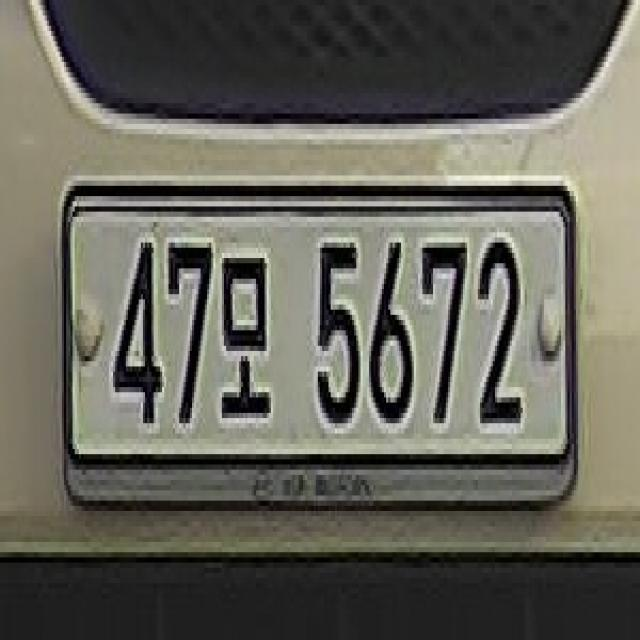2: (473, 231, 528, 448)
4: (104, 228, 166, 442)
5: (314, 230, 364, 432)
6: (368, 230, 418, 448)
7: (166, 229, 216, 450), (420, 233, 470, 445)
license_plate: (53, 165, 587, 520)
mo: (219, 244, 278, 441)
